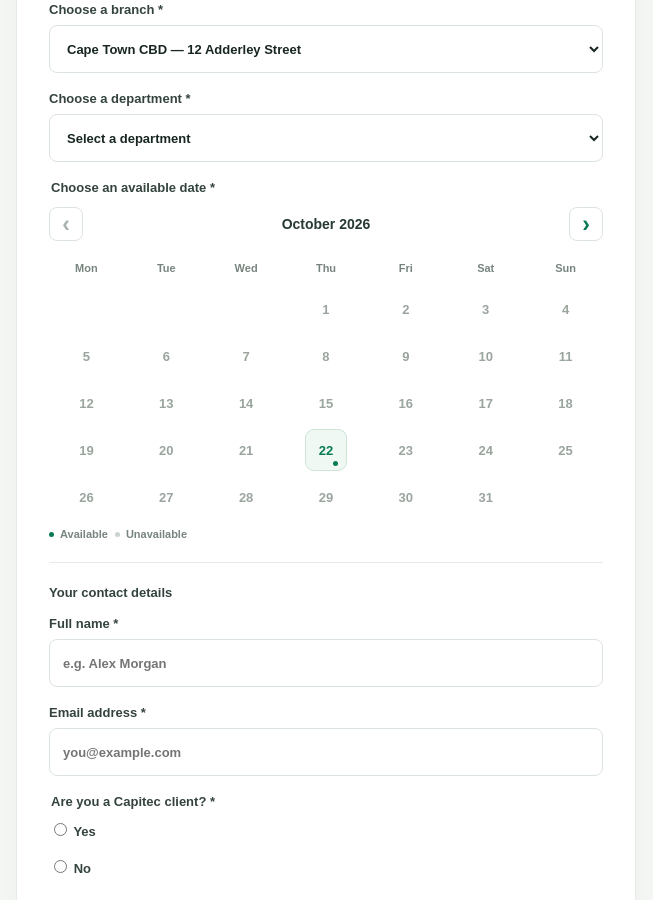
Test: BookingPage › loads branches and slots, submits a booking, and shows its confirmation
(page scrolled)
Check: the dropdown labelled "Choose a branch *" shows "Cape Town CBD — 12 Adderley Street", box [49, 25, 603, 73]
Step 1. Click the button "22" → [326, 450], box [305, 429, 347, 471]
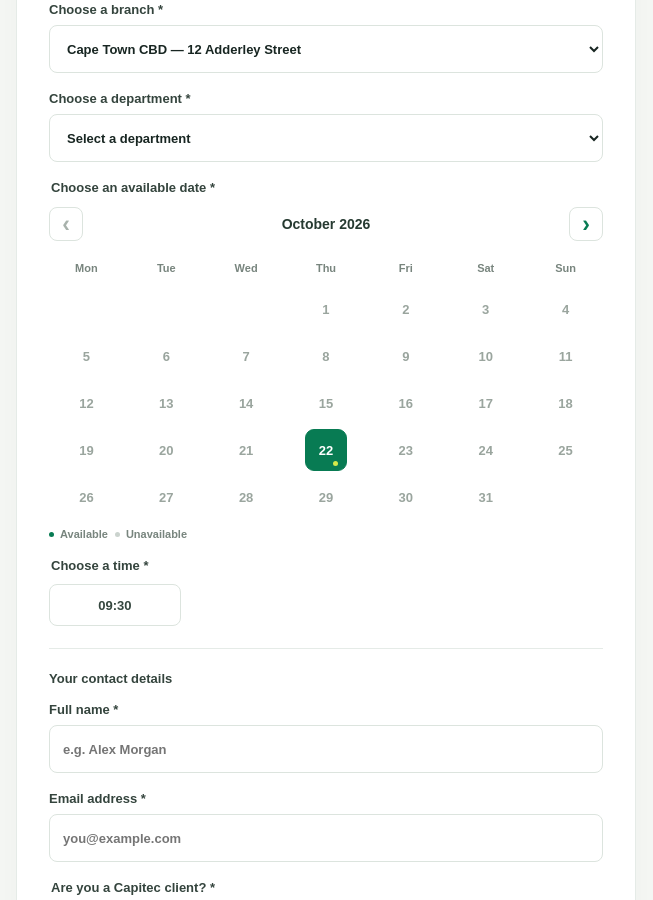
Step 2. Click the radio button labelled "09:30" → [115, 605], box [49, 584, 181, 626]
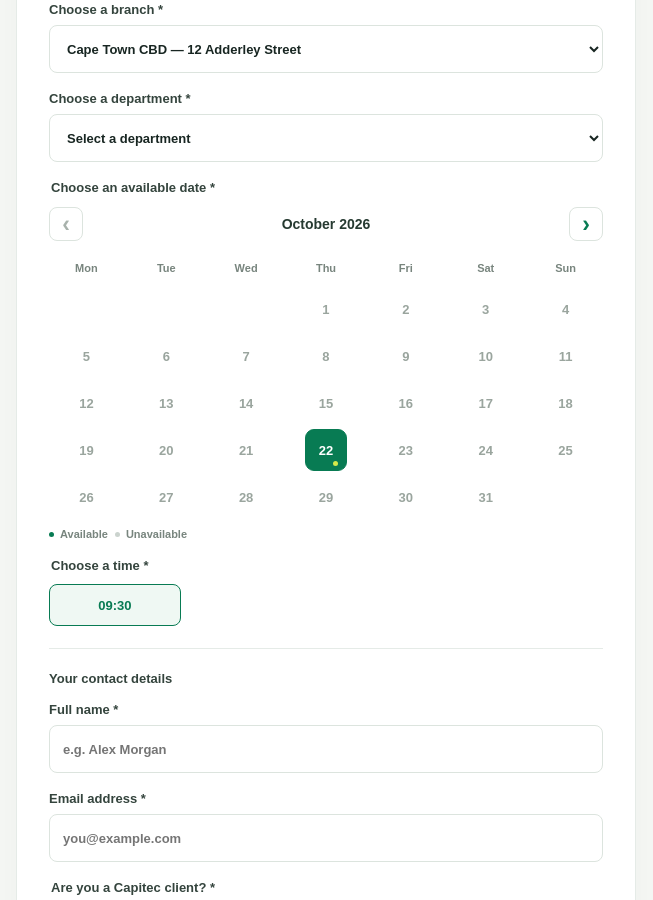
Step 3. Type "Alex Morgan" into the field labelled "Full name *" → [326, 749], box [49, 725, 603, 773]
Step 4. Type "alex@example.com" into the field labelled "Email address *" → [326, 838], box [49, 814, 603, 862]
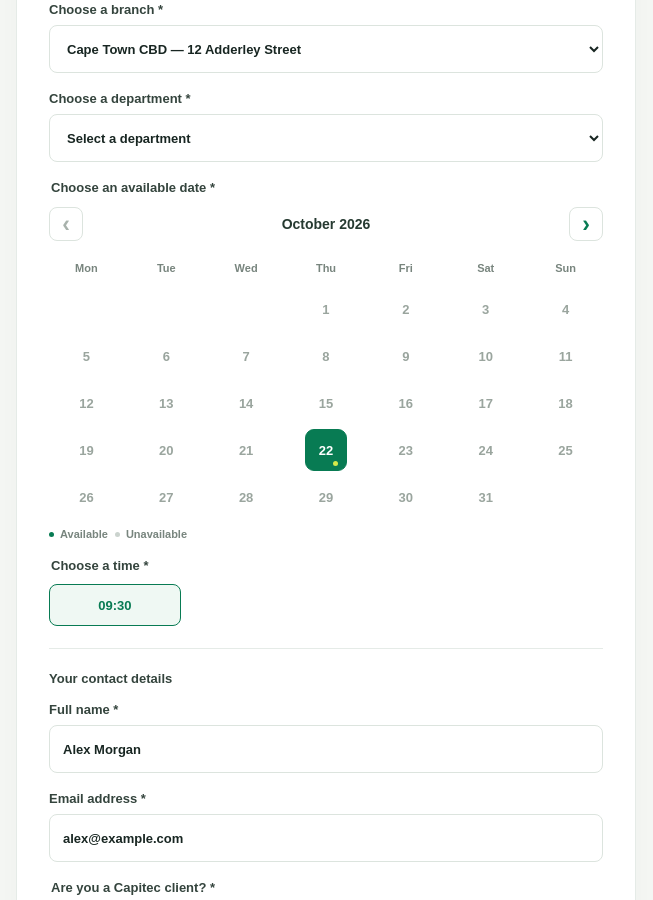
Step 5. Select "Everyday Banking" in the dropdown labelled "Choose a department *" → [326, 138], box [49, 114, 603, 162]
(page scrolled)
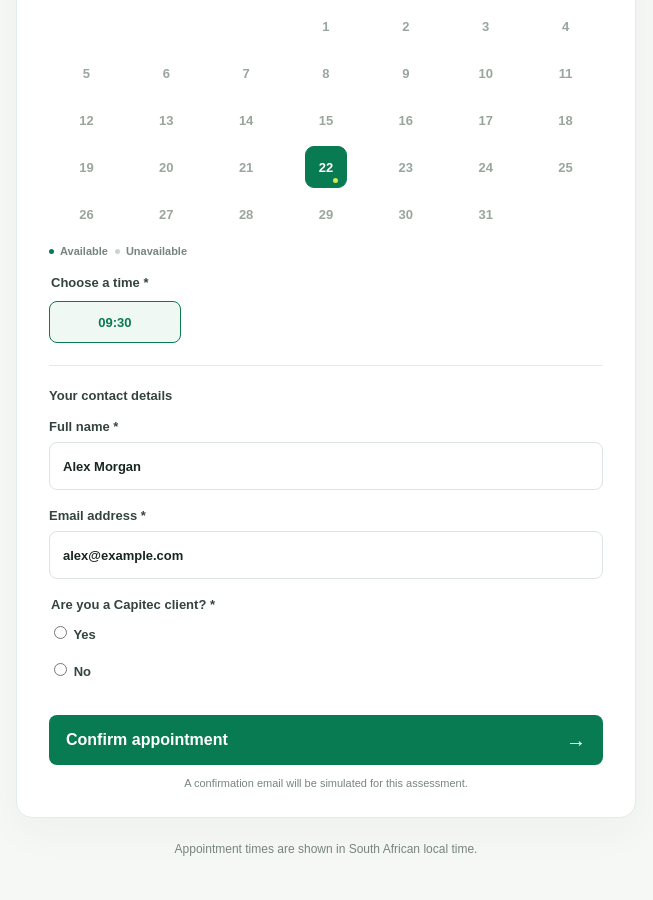
Step 6. Click the radio button labelled "Yes" → [60, 633], box [54, 626, 67, 639]
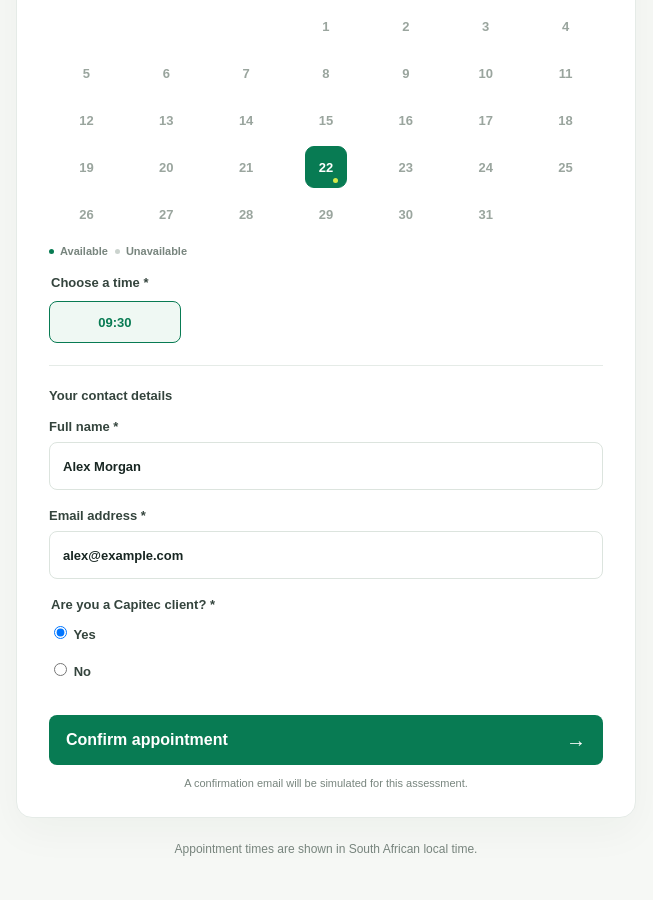
Step 7. Click the button "Confirm appointment →" → [147, 740], box [49, 715, 603, 765]
(page scrolled)
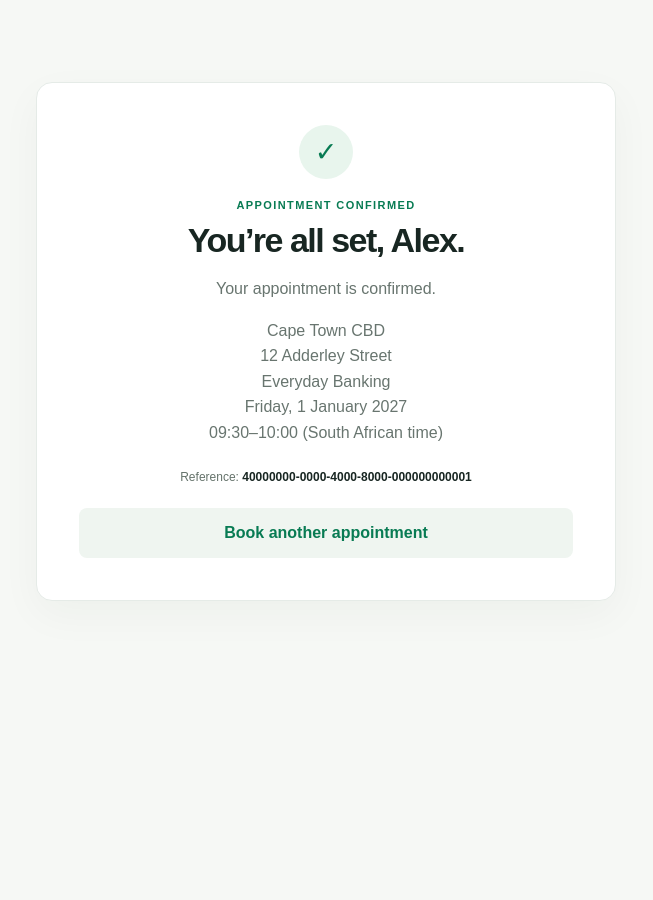
Check: the heading "You’re all set, Alex." is shown, box [188, 221, 464, 259]
Check: the text "40000000-0000-4000-8000-000000000001" is shown, box [242, 470, 472, 484]
